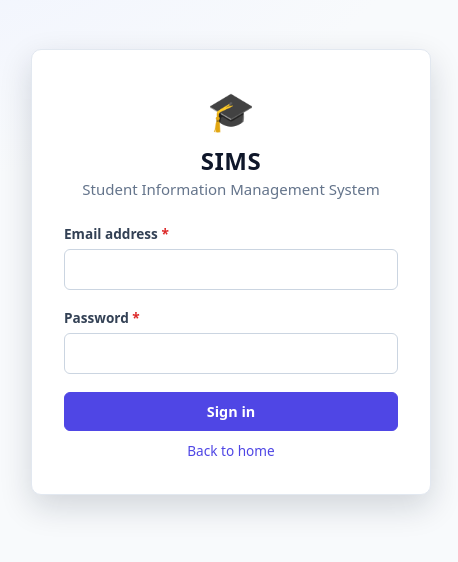
Test: authentication › shows an error message for invalid credentials
The image size is (458, 562).
Type "admin@sims.test" into the field labelled "Email address *" at x=231, y=269, box [64, 249, 398, 290]
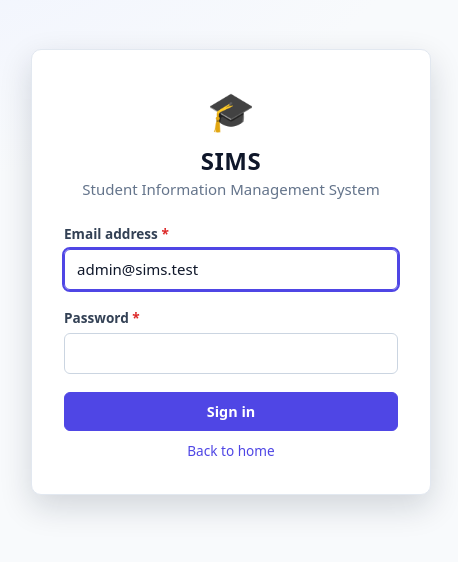
Type "wrong-password" into the password field labelled "Password *" at x=231, y=353, box [64, 333, 398, 374]
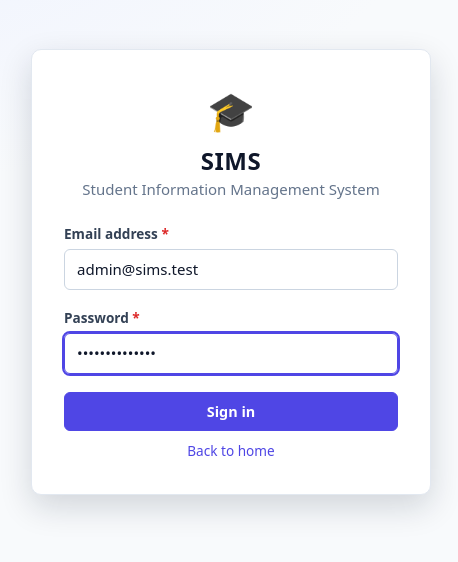
Click the button "Sign in" at x=231, y=411, box [64, 392, 398, 431]
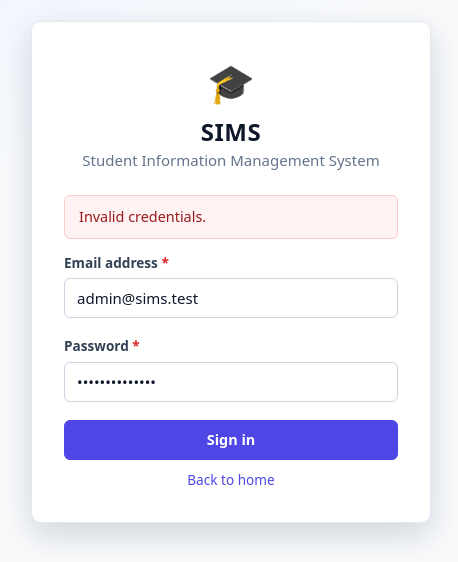
Result: the message reads "Invalid credentials." at [79, 207, 206, 226]
